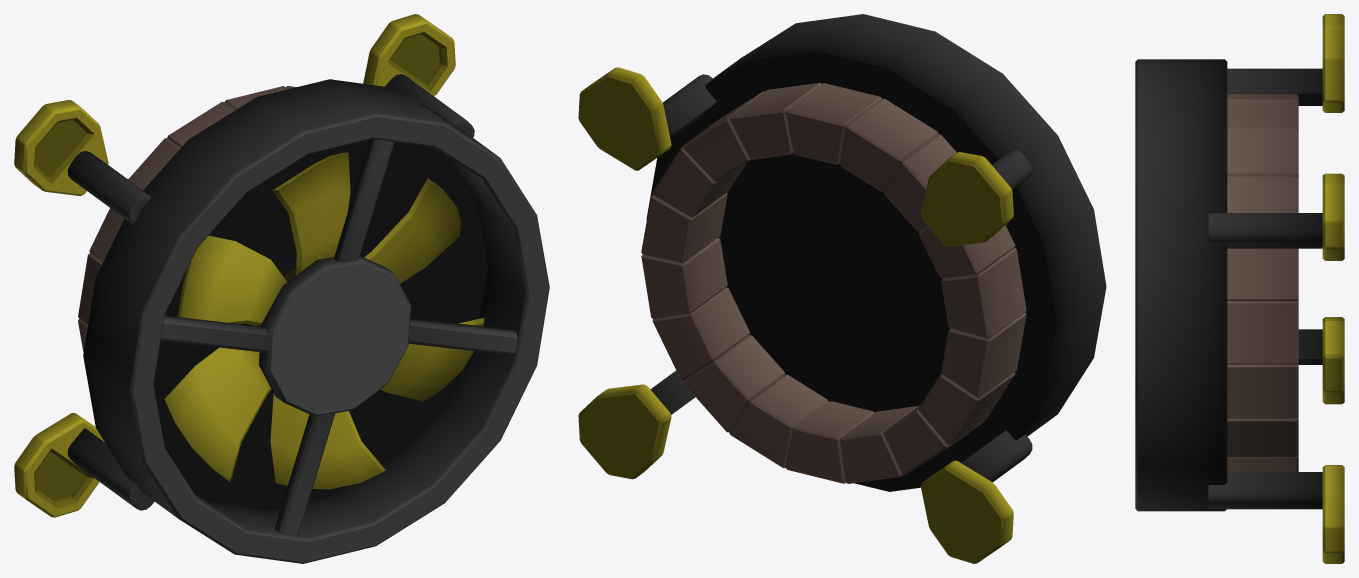
Rendered from Cooling_systems_lvl_03_V04.fbx.
The picture shows the model from 3 angles, left to right: view 1: azimuth 30°, elevation 25°; view 2: azimuth 150°, elevation 25°; view 3: azimuth 270°, elevation 25°; orthographic projection. The views are drawn at different scales.
Visible parts, largest first — view 1: Body_Cooling, Fan_Cooling; view 2: Body_Cooling; view 3: Body_Cooling.
Part boxes in pixels (x1,y1,x2,y2): Body_Cooling: (14, 14, 549, 563); Fan_Cooling: (164, 152, 484, 489); Body_Cooling: (578, 14, 1106, 563); Body_Cooling: (1135, 14, 1344, 563).
Size of the model in its own units: 47.51 by 45.43 by 21.31.
